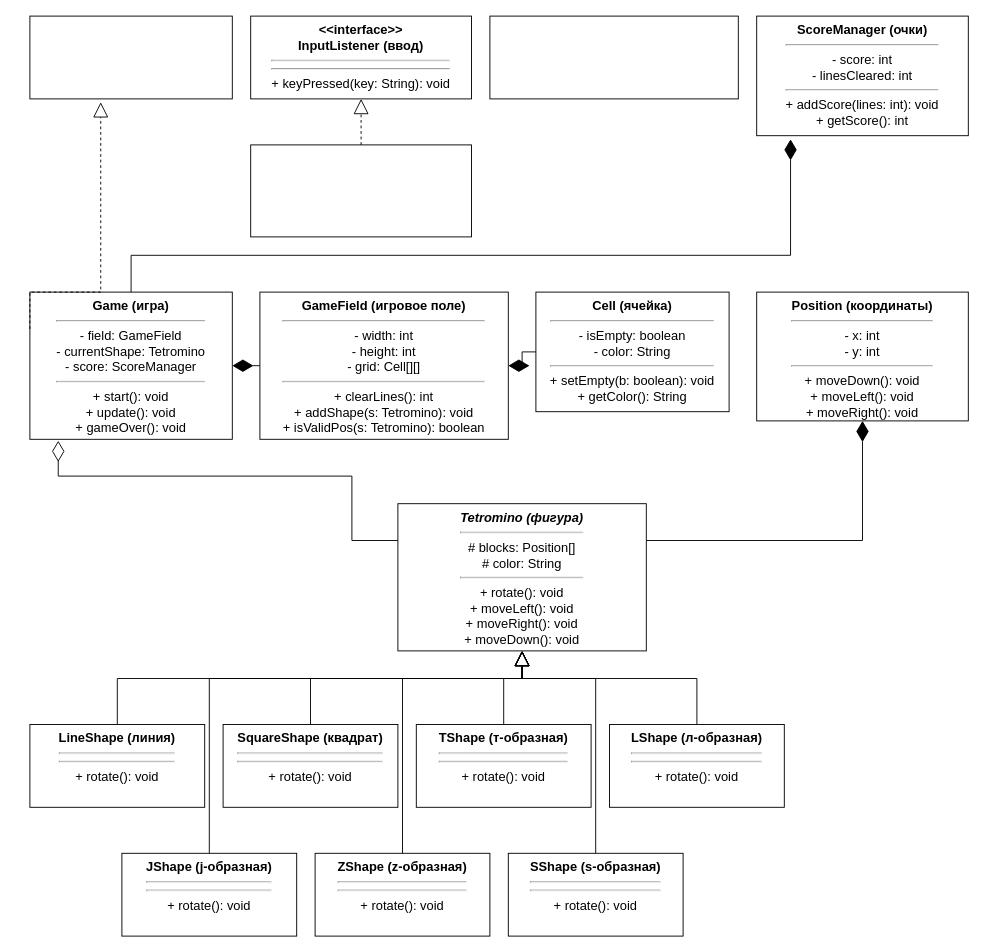
The diagram is 984 pixels wide and 952 high, and some of its shapes have lost their labels. The shapes that lost their labels are listed below. From the top down, each one's box as (x1, y1, x2, y2) in pixels, then its label:
(29, 15, 232, 99): <<interface>> Renderable (отрисовка) + draw(): void
(489, 15, 738, 99): ShapeFactory (фабрика фигур) + createRandomShape(): Tetromino
(250, 144, 472, 237): KeyboardInput (клавиатура) - game: Game + keyPressed(key: String): void
